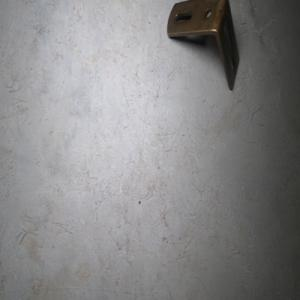MetalPart: (166, 0, 240, 92)
